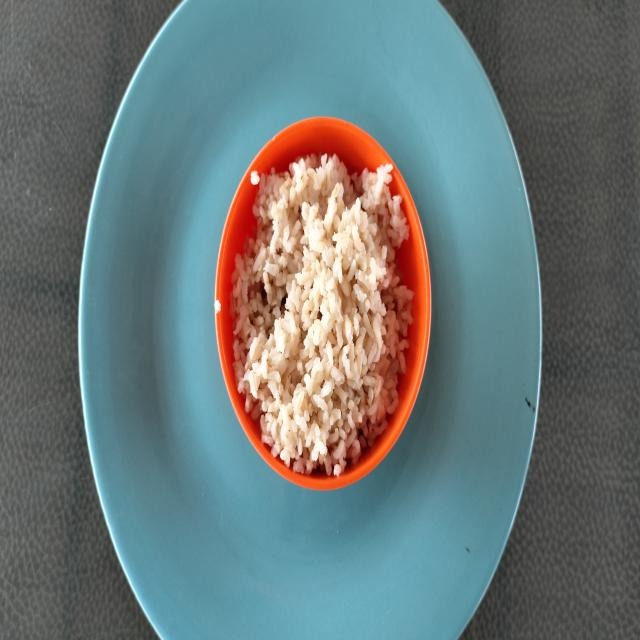brown-rice: (231, 155, 412, 476)
